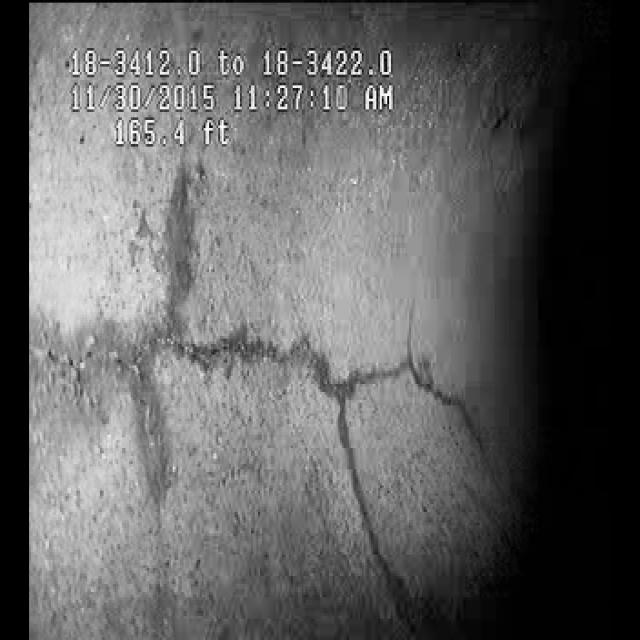Crack: (51, 186, 447, 533)
